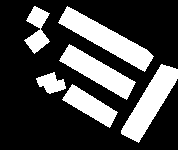parkingspot: (58, 6, 153, 71), (121, 64, 178, 142), (59, 44, 135, 99), (62, 84, 117, 127), (36, 72, 65, 93), (24, 29, 49, 53), (26, 6, 49, 28)
